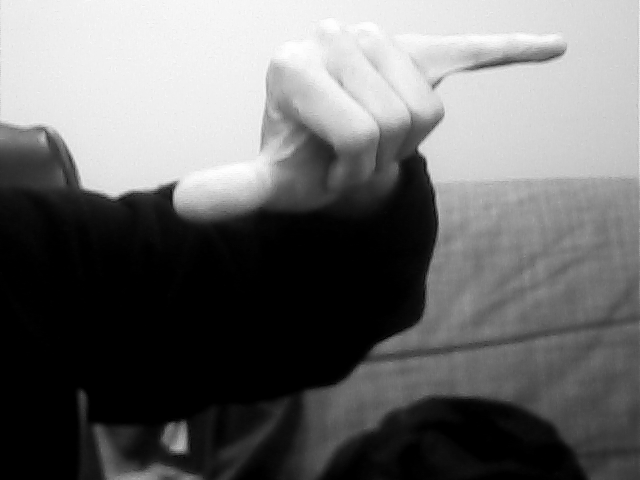aloha: (164, 7, 574, 242)
